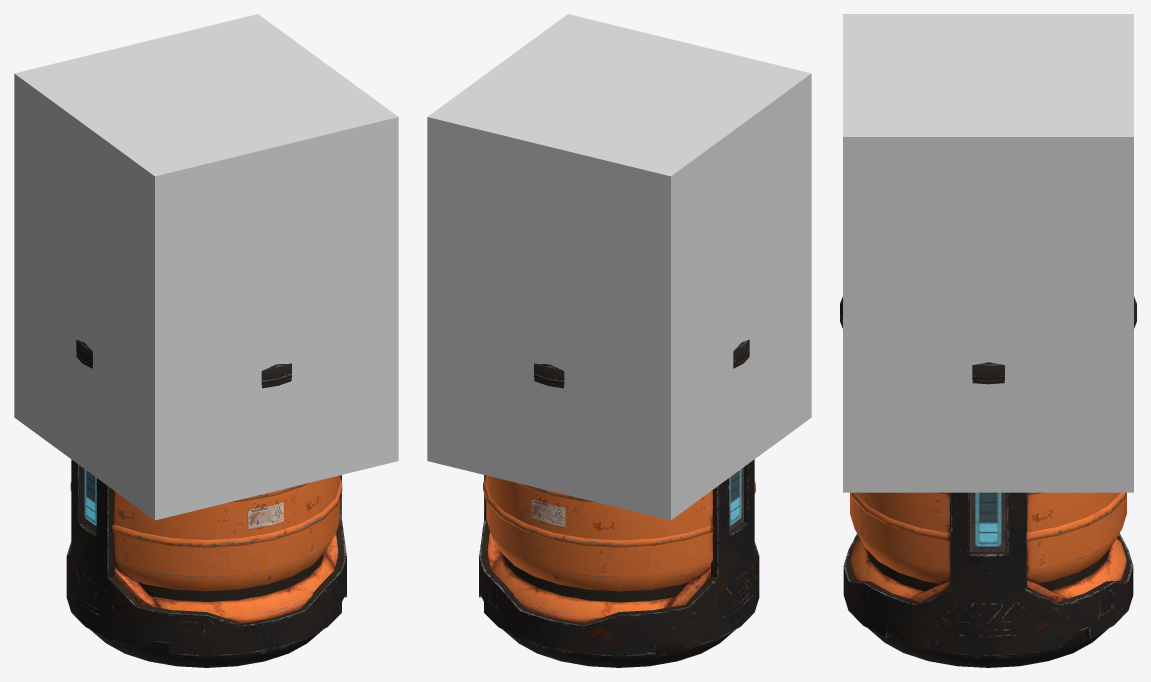
The picture shows the model from 3 angles, left to right: view 1: azimuth 30°, elevation 25°; view 2: azimuth 150°, elevation 25°; view 3: azimuth 270°, elevation 25°; orthographic projection. The views are drawn at different scales.
Parts seen in each view (by area): view 1: Barel_Dimension, Barel_Mesh; view 2: Barel_Dimension, Barel_Mesh; view 3: Barel_Dimension, Barel_Mesh.
Boxes of the visible parts, bbox=[...] form: Barel_Dimension: bbox=[14, 14, 398, 520]; Barel_Mesh: bbox=[66, 339, 346, 667]; Barel_Dimension: bbox=[427, 14, 811, 520]; Barel_Mesh: bbox=[479, 339, 759, 667]; Barel_Dimension: bbox=[843, 14, 1133, 492]; Barel_Mesh: bbox=[840, 296, 1136, 667].
Size of the model in its own units: 0.7506 by 1.51 by 0.7518.
1 material, 1 textured.
